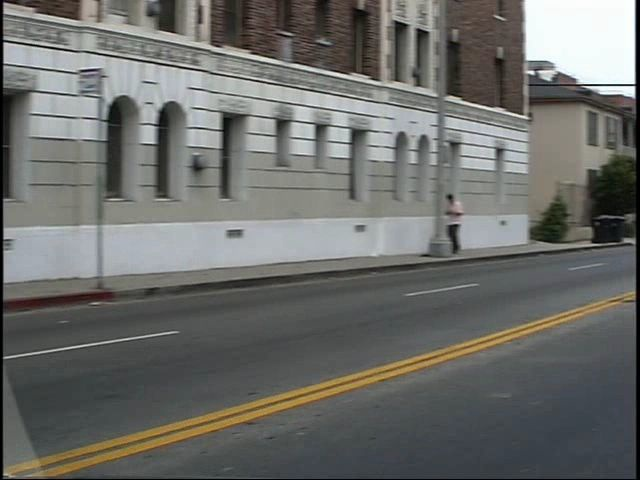person: (461, 187, 487, 256)
